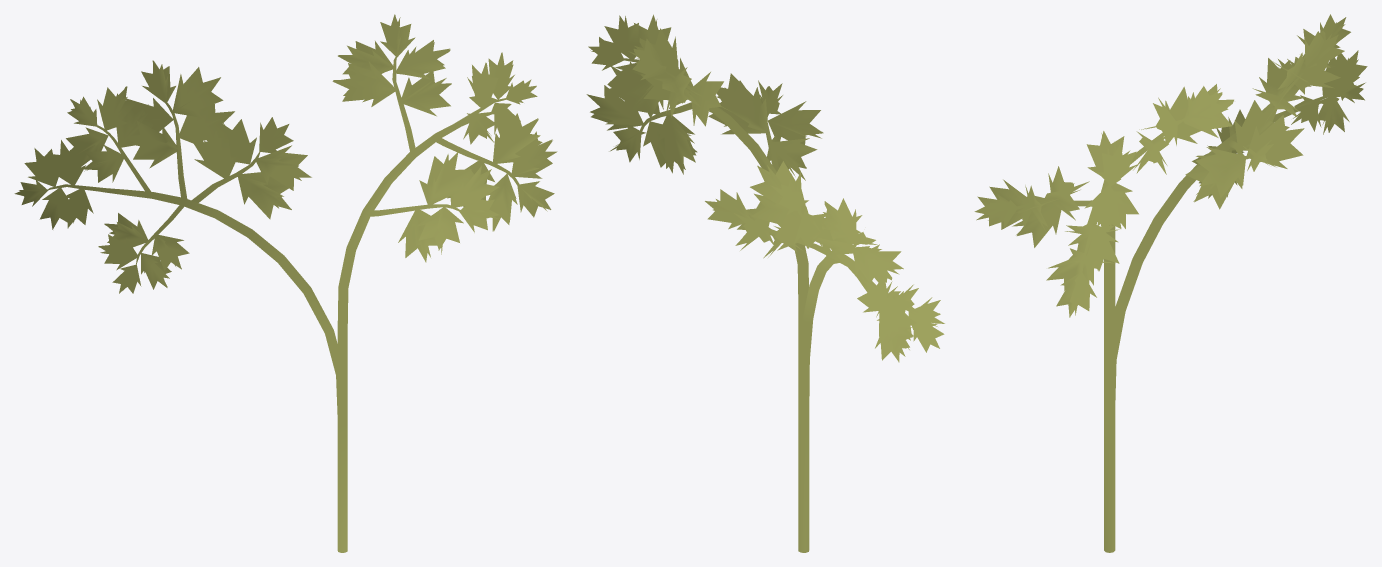
File: PL_carrotStage2_01.fbx
3 views of the same model, side by side, from view 1: azimuth 30°, elevation 25°; view 2: azimuth 150°, elevation 25°; view 3: azimuth 270°, elevation 25° (orthographic). The views are drawn at different scales.
Parts seen in each view (by area): view 1: PL_carrotStage2_01; view 2: PL_carrotStage2_01; view 3: PL_carrotStage2_01.
Part boxes in pixels (x1,y1,x2,y2): PL_carrotStage2_01: [14, 14, 557, 552]; PL_carrotStage2_01: [586, 14, 944, 552]; PL_carrotStage2_01: [974, 14, 1367, 552].
Size of the model in its own units: 54.68 by 59.66 by 41.05.
1 material, 1 textured.
